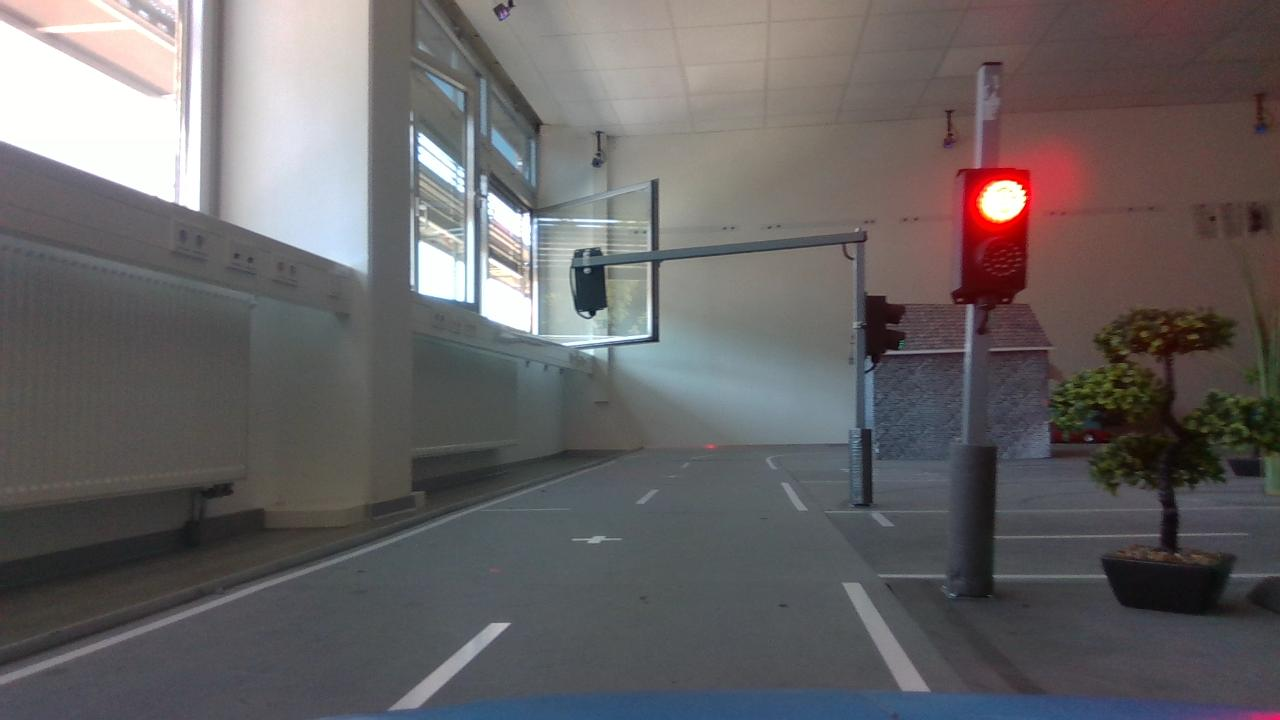traffic_light_red: (940, 159, 1046, 321)
